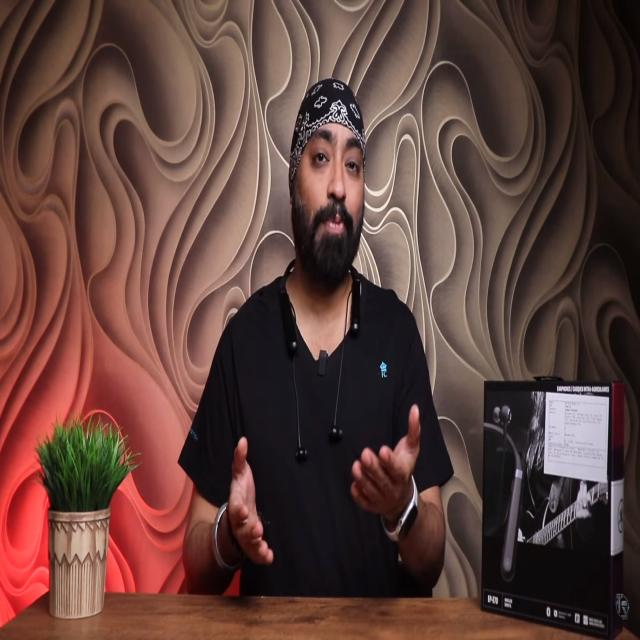Neckband: (280, 253, 361, 462)
